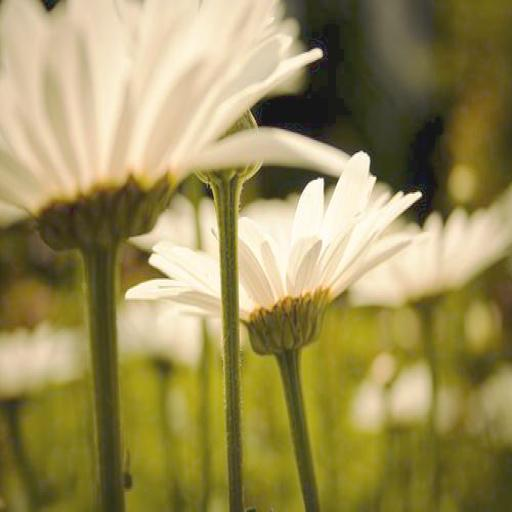daisy: (154, 177, 410, 343)
